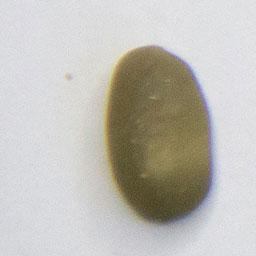premium: (101, 41, 216, 227)
